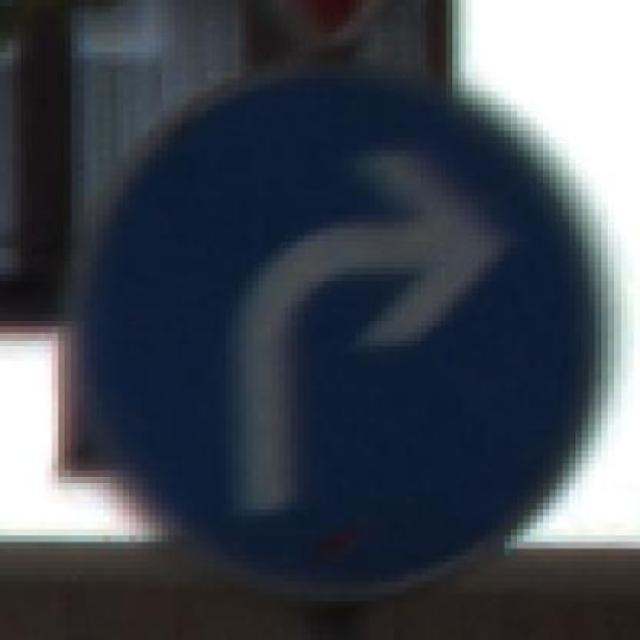Turn right ahead: (45, 71, 621, 607)
